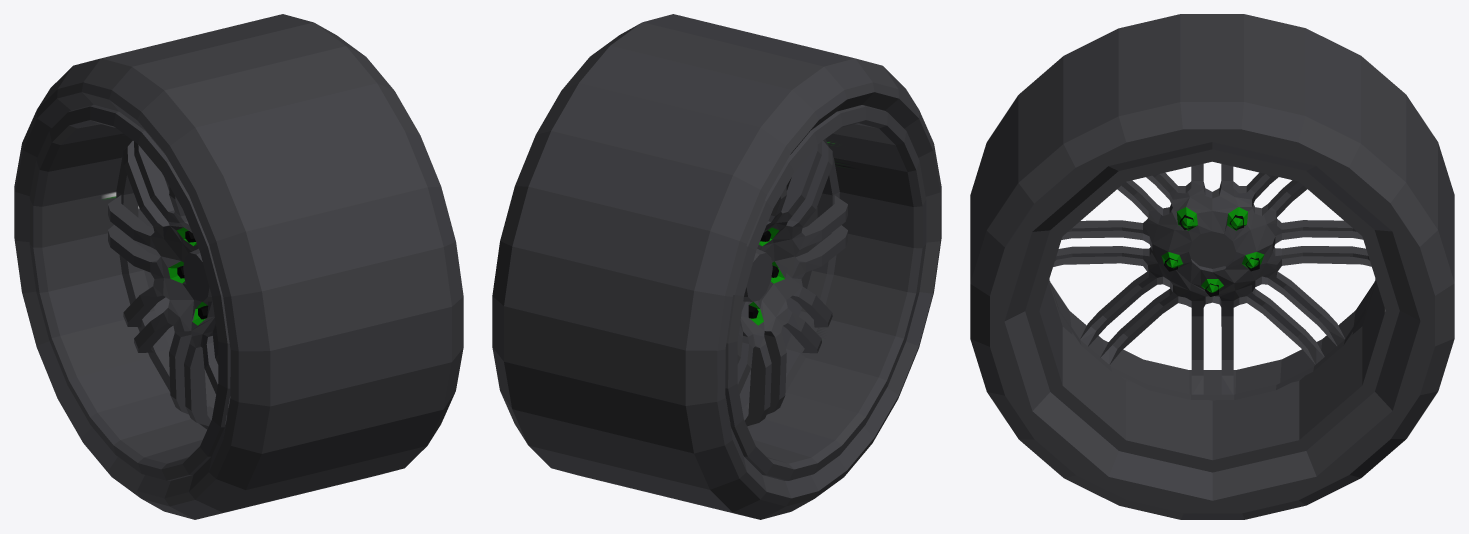
File: X_Front_Left.fbx
3 views of the same model, side by side, from view 1: azimuth 30°, elevation 25°; view 2: azimuth 150°, elevation 25°; view 3: azimuth 270°, elevation 25° (orthographic).
Parts seen in each view (by area): view 1: Object004; view 2: Object004; view 3: Object004.
Boxes of the visible parts, left/top/right/bottom form: Object004: left=14, top=14, right=463, bottom=519; Object004: left=492, top=14, right=941, bottom=519; Object004: left=970, top=14, right=1454, bottom=519.
Size of the model in its own units: 9.46 by 17.52 by 16.67.
Materials: 1 (1 with a texture image).
